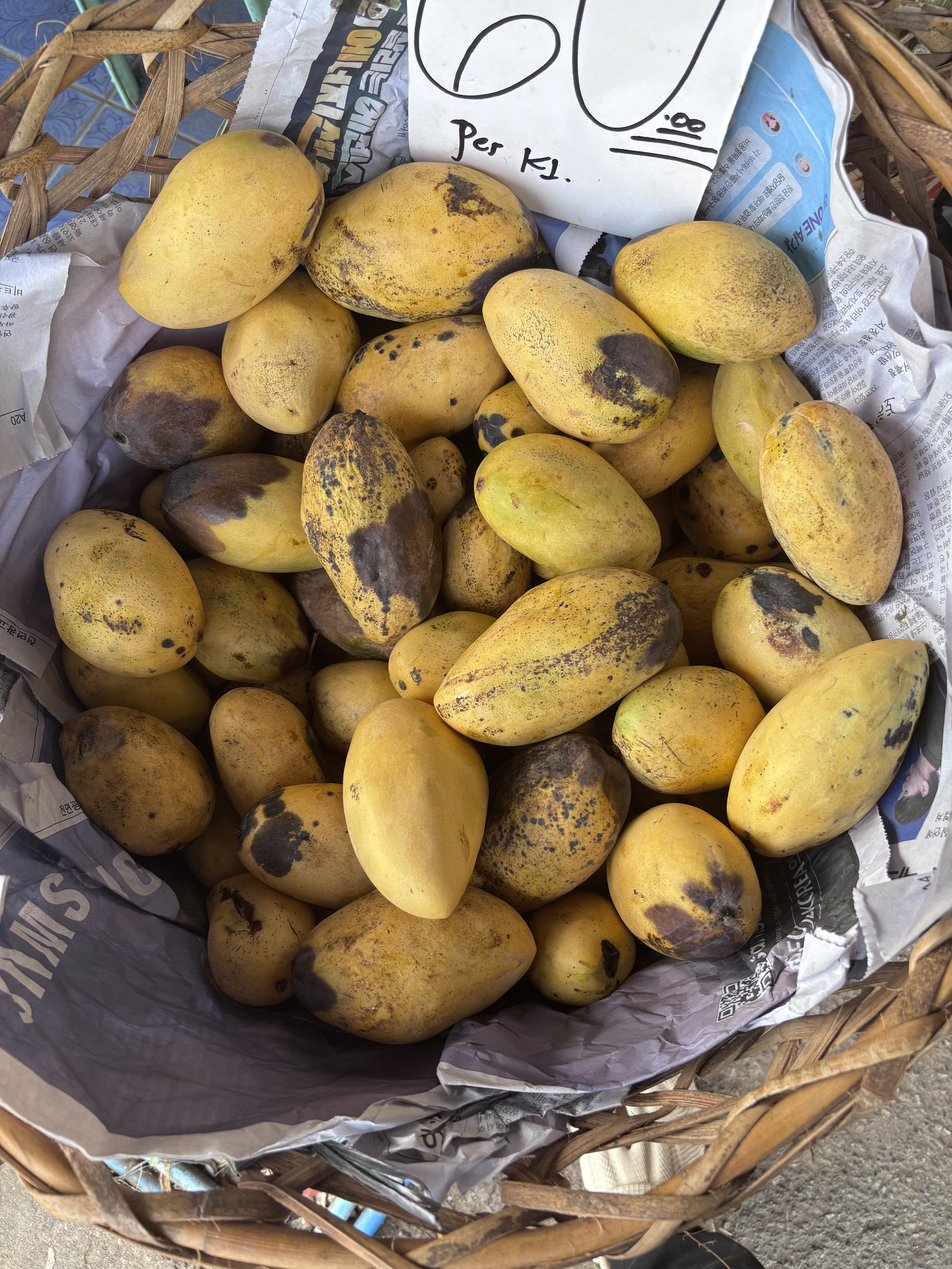mango: (435, 567, 682, 746), (727, 639, 929, 857), (118, 130, 324, 328), (483, 269, 680, 445), (301, 411, 441, 644), (343, 698, 488, 919), (759, 401, 903, 605), (612, 221, 816, 363), (44, 509, 204, 680), (607, 803, 761, 961), (60, 706, 215, 856)
occluded: (293, 888, 535, 1044), (304, 162, 539, 322), (471, 733, 631, 915), (475, 434, 660, 577), (335, 315, 508, 450), (712, 565, 870, 708), (222, 272, 360, 435), (102, 345, 262, 469), (613, 666, 764, 794), (592, 348, 720, 499), (162, 453, 320, 573), (238, 783, 373, 910), (186, 558, 310, 682), (209, 686, 325, 816), (712, 355, 812, 502), (207, 873, 315, 1006), (62, 646, 212, 739), (672, 448, 781, 567), (527, 890, 635, 1006), (441, 495, 532, 618), (650, 557, 752, 666), (292, 569, 400, 662), (388, 611, 495, 704), (311, 660, 398, 755), (473, 381, 557, 452), (409, 437, 466, 528)
